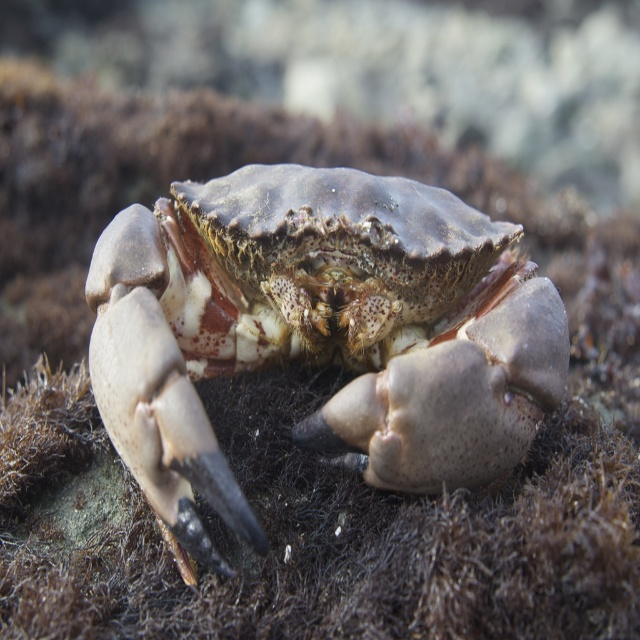Crab: (84, 162, 572, 597)
